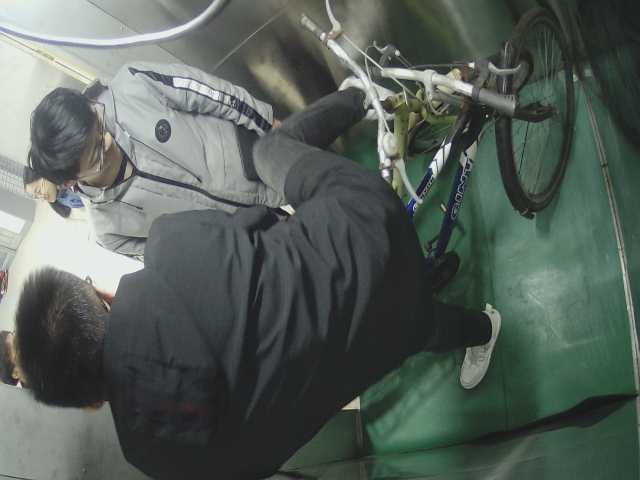bicycle: (315, 1, 601, 316)
person: (19, 208, 506, 442), (22, 57, 267, 218)
